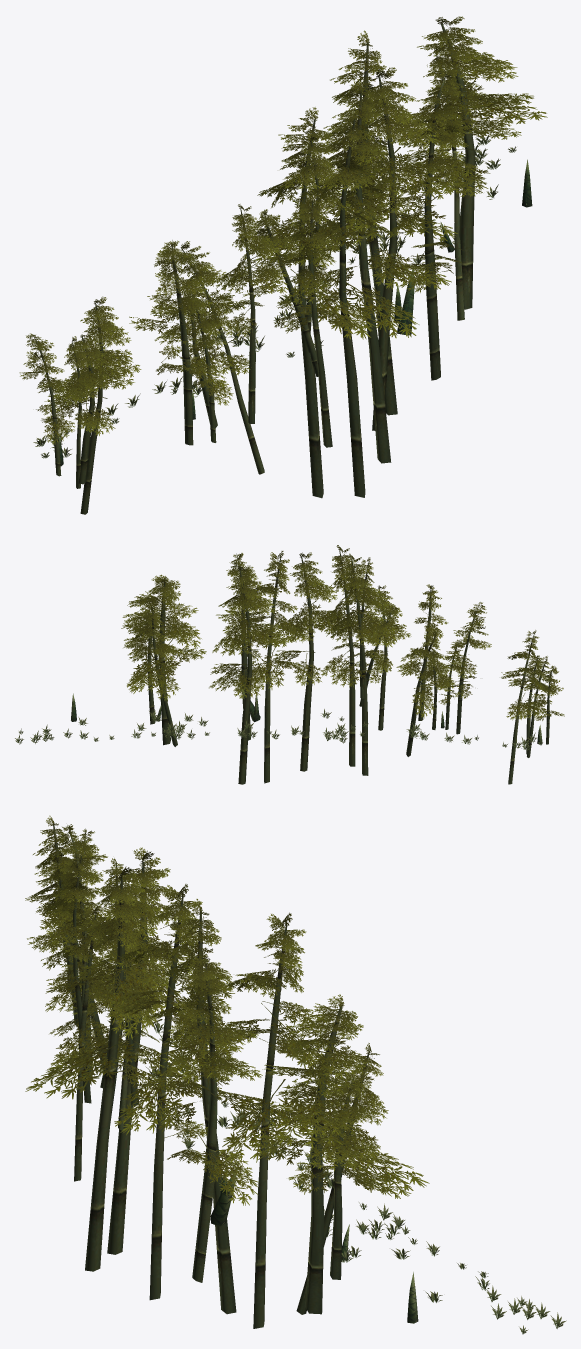
File: Area_10_11.fbx
The picture shows the model from 3 angles, top to bottom: view 1: azimuth 30°, elevation 25°; view 2: azimuth 150°, elevation 25°; view 3: azimuth 270°, elevation 25°; orthographic projection. The views are drawn at different scales.
Visible parts, largest first — view 1: Area_10_11; view 2: Area_10_11; view 3: Area_10_11.
Boxes of the visible parts, bbox=[...] form: Area_10_11: bbox=[19, 16, 547, 514]; Area_10_11: bbox=[15, 545, 564, 784]; Area_10_11: bbox=[25, 815, 566, 1334].
Bounding box in the file's own units: 4915 × 2554 × 3114.
